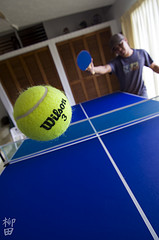tennis ball: (13, 84, 73, 142)
